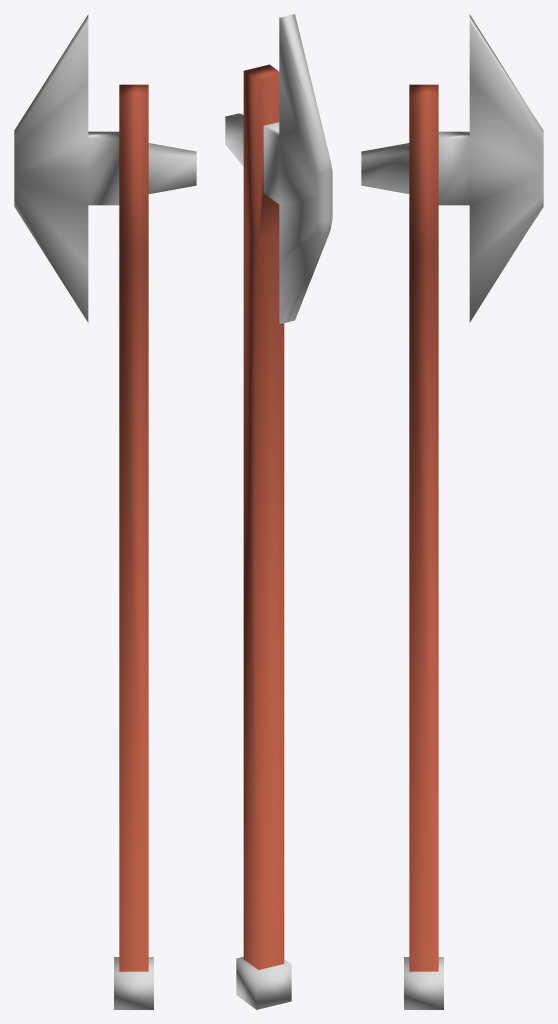
File: Sekir.obj
3 views of the same model, side by side, from view 1: azimuth 90°, elevation 25°; view 2: azimuth 210°, elevation 25°; view 3: azimuth 270°, elevation 25° (orthographic).
Parts seen in each view (by area): view 1: Cube2_Wood, Cube2_Metall; view 2: Cube2_Wood, Cube2_Metall; view 3: Cube2_Wood, Cube2_Metall.
Boxes of the visible parts, left/top/right/bottom form: Cube2_Wood: left=119, top=84, right=148, bottom=971; Cube2_Metall: left=14, top=14, right=196, bottom=1009; Cube2_Wood: left=243, top=64, right=284, bottom=969; Cube2_Metall: left=225, top=14, right=332, bottom=1009; Cube2_Wood: left=409, top=84, right=438, bottom=971; Cube2_Metall: left=361, top=14, right=543, bottom=1009.
Bounding box in the file's own units: 2 × 54.39 × 9.14.
